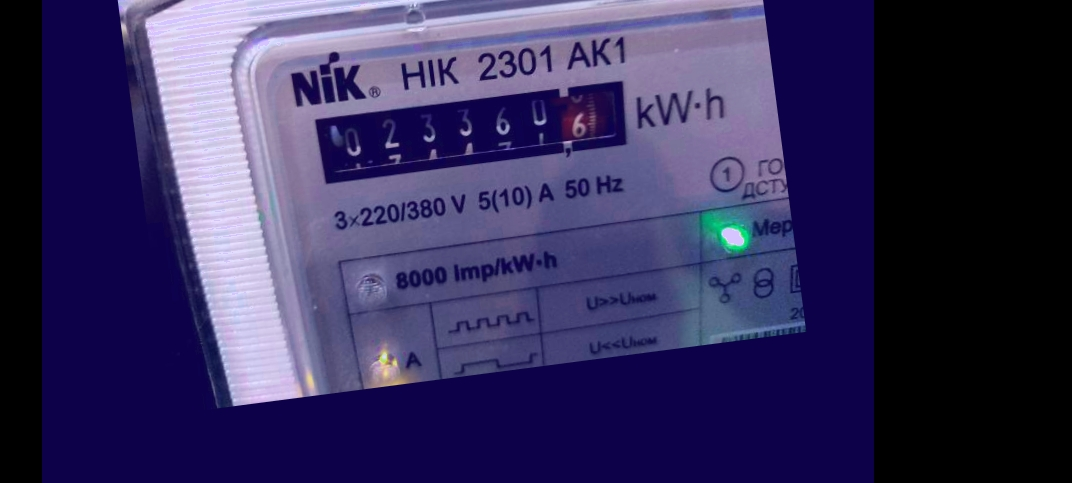0: (340, 123, 365, 158), (529, 94, 550, 127)
2: (377, 114, 404, 151)
3: (415, 110, 440, 144), (453, 104, 476, 137)
6: (490, 102, 514, 137), (566, 107, 590, 139)
screen: (295, 60, 647, 201)
